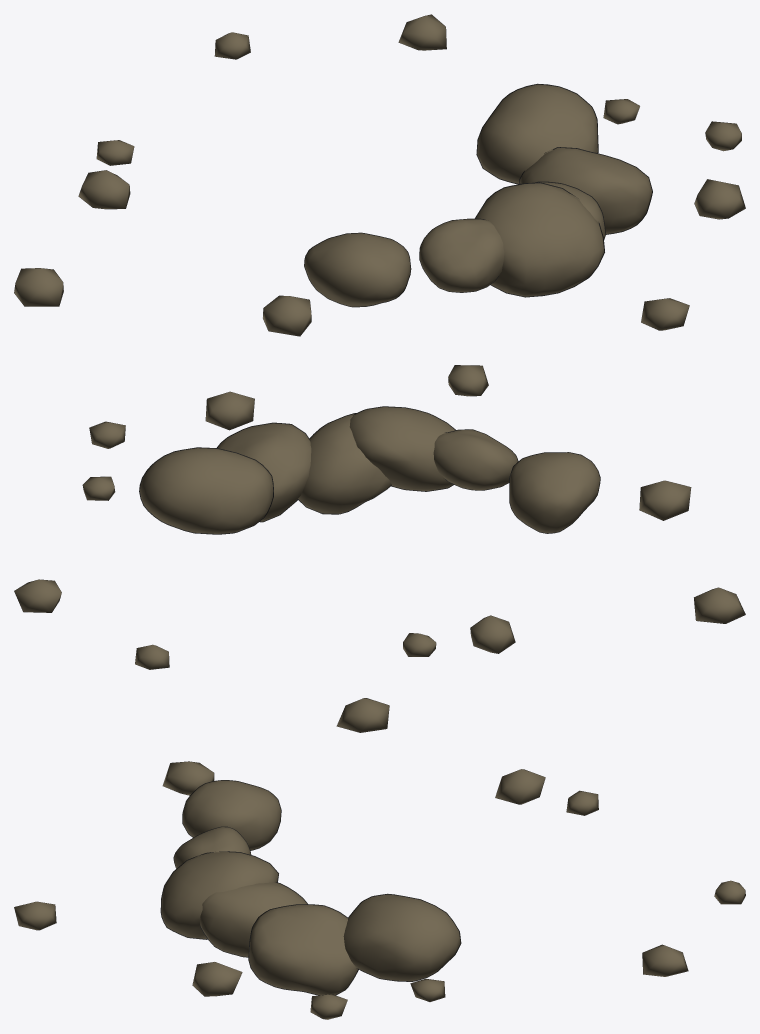
Rendered from carrotrocks.fbx.
3 renders of one model, top to bottom at view 1: azimuth 30°, elevation 25°; view 2: azimuth 150°, elevation 25°; view 3: azimuth 270°, elevation 25°, orthographic. The views are drawn at different scales.
Visible parts, largest first — view 1: Clod_12, Clod_00, Clod_10, Clod_14, Clod_11, Crumb_03, Crumb_00, Crumb_07, Crumb_02, Crumb_06, Crumb_04, Crumb_09 (+4 smaller); view 2: Clod_00, Clod_12, Clod_10, Clod_13, Clod_14, Clod_11, Crumb_00, Crumb_02, Crumb_03, Crumb_07, Crumb_06, Crumb_04 (+4 smaller); view 3: Clod_00, Clod_14, Clod_12, Clod_10, Clod_13, Clod_11, Crumb_03, Crumb_02, Crumb_07, Crumb_00, Crumb_06, Crumb_04 (+4 smaller).
Part boxes in pixels (x1,y1,x2,y2): Clod_12: [475, 182, 604, 297]; Clod_00: [476, 83, 598, 184]; Clod_10: [304, 232, 411, 307]; Clod_14: [519, 147, 652, 234]; Clod_11: [419, 218, 504, 292]; Crumb_03: [14, 268, 63, 306]; Crumb_00: [263, 295, 311, 336]; Crumb_07: [78, 170, 130, 209]; Crumb_02: [694, 179, 745, 219]; Crumb_06: [398, 14, 446, 50]; Crumb_04: [641, 298, 689, 330]; Crumb_09: [705, 121, 741, 151]; Clod_00: [139, 447, 273, 534]; Clod_12: [349, 406, 455, 491]; Clod_10: [509, 452, 600, 533]; Clod_13: [298, 413, 391, 514]; Clod_14: [217, 422, 311, 522]; Clod_11: [433, 429, 518, 490]; Crumb_00: [639, 480, 691, 520]; Crumb_02: [205, 391, 254, 430]; Crumb_03: [694, 587, 745, 623]; Crumb_07: [470, 615, 515, 653]; Crumb_06: [14, 579, 61, 612]; Crumb_04: [448, 365, 488, 396]; Clod_00: [343, 893, 461, 981]; Clod_14: [248, 904, 358, 995]; Clod_12: [160, 851, 278, 939]; Clod_10: [182, 780, 281, 850]; Clod_13: [200, 882, 307, 957]; Clod_11: [173, 826, 251, 868]; Crumb_03: [336, 698, 389, 732]; Crumb_02: [192, 962, 242, 996]; Crumb_07: [495, 769, 545, 804]; Crumb_00: [162, 761, 214, 795]; Crumb_06: [642, 944, 688, 976]; Crumb_04: [14, 901, 56, 930].
Size of what is drawn, in the model's own units: 294 by 39.75 by 293.
